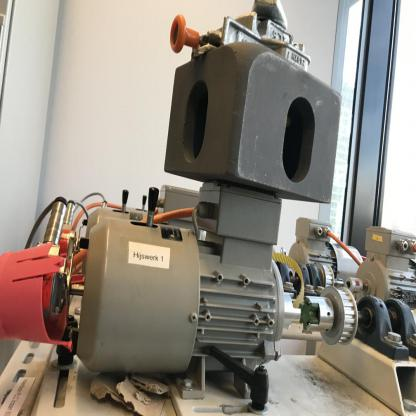CornerCasting: (160, 43, 341, 204)
Twistlock: (170, 0, 333, 75)
